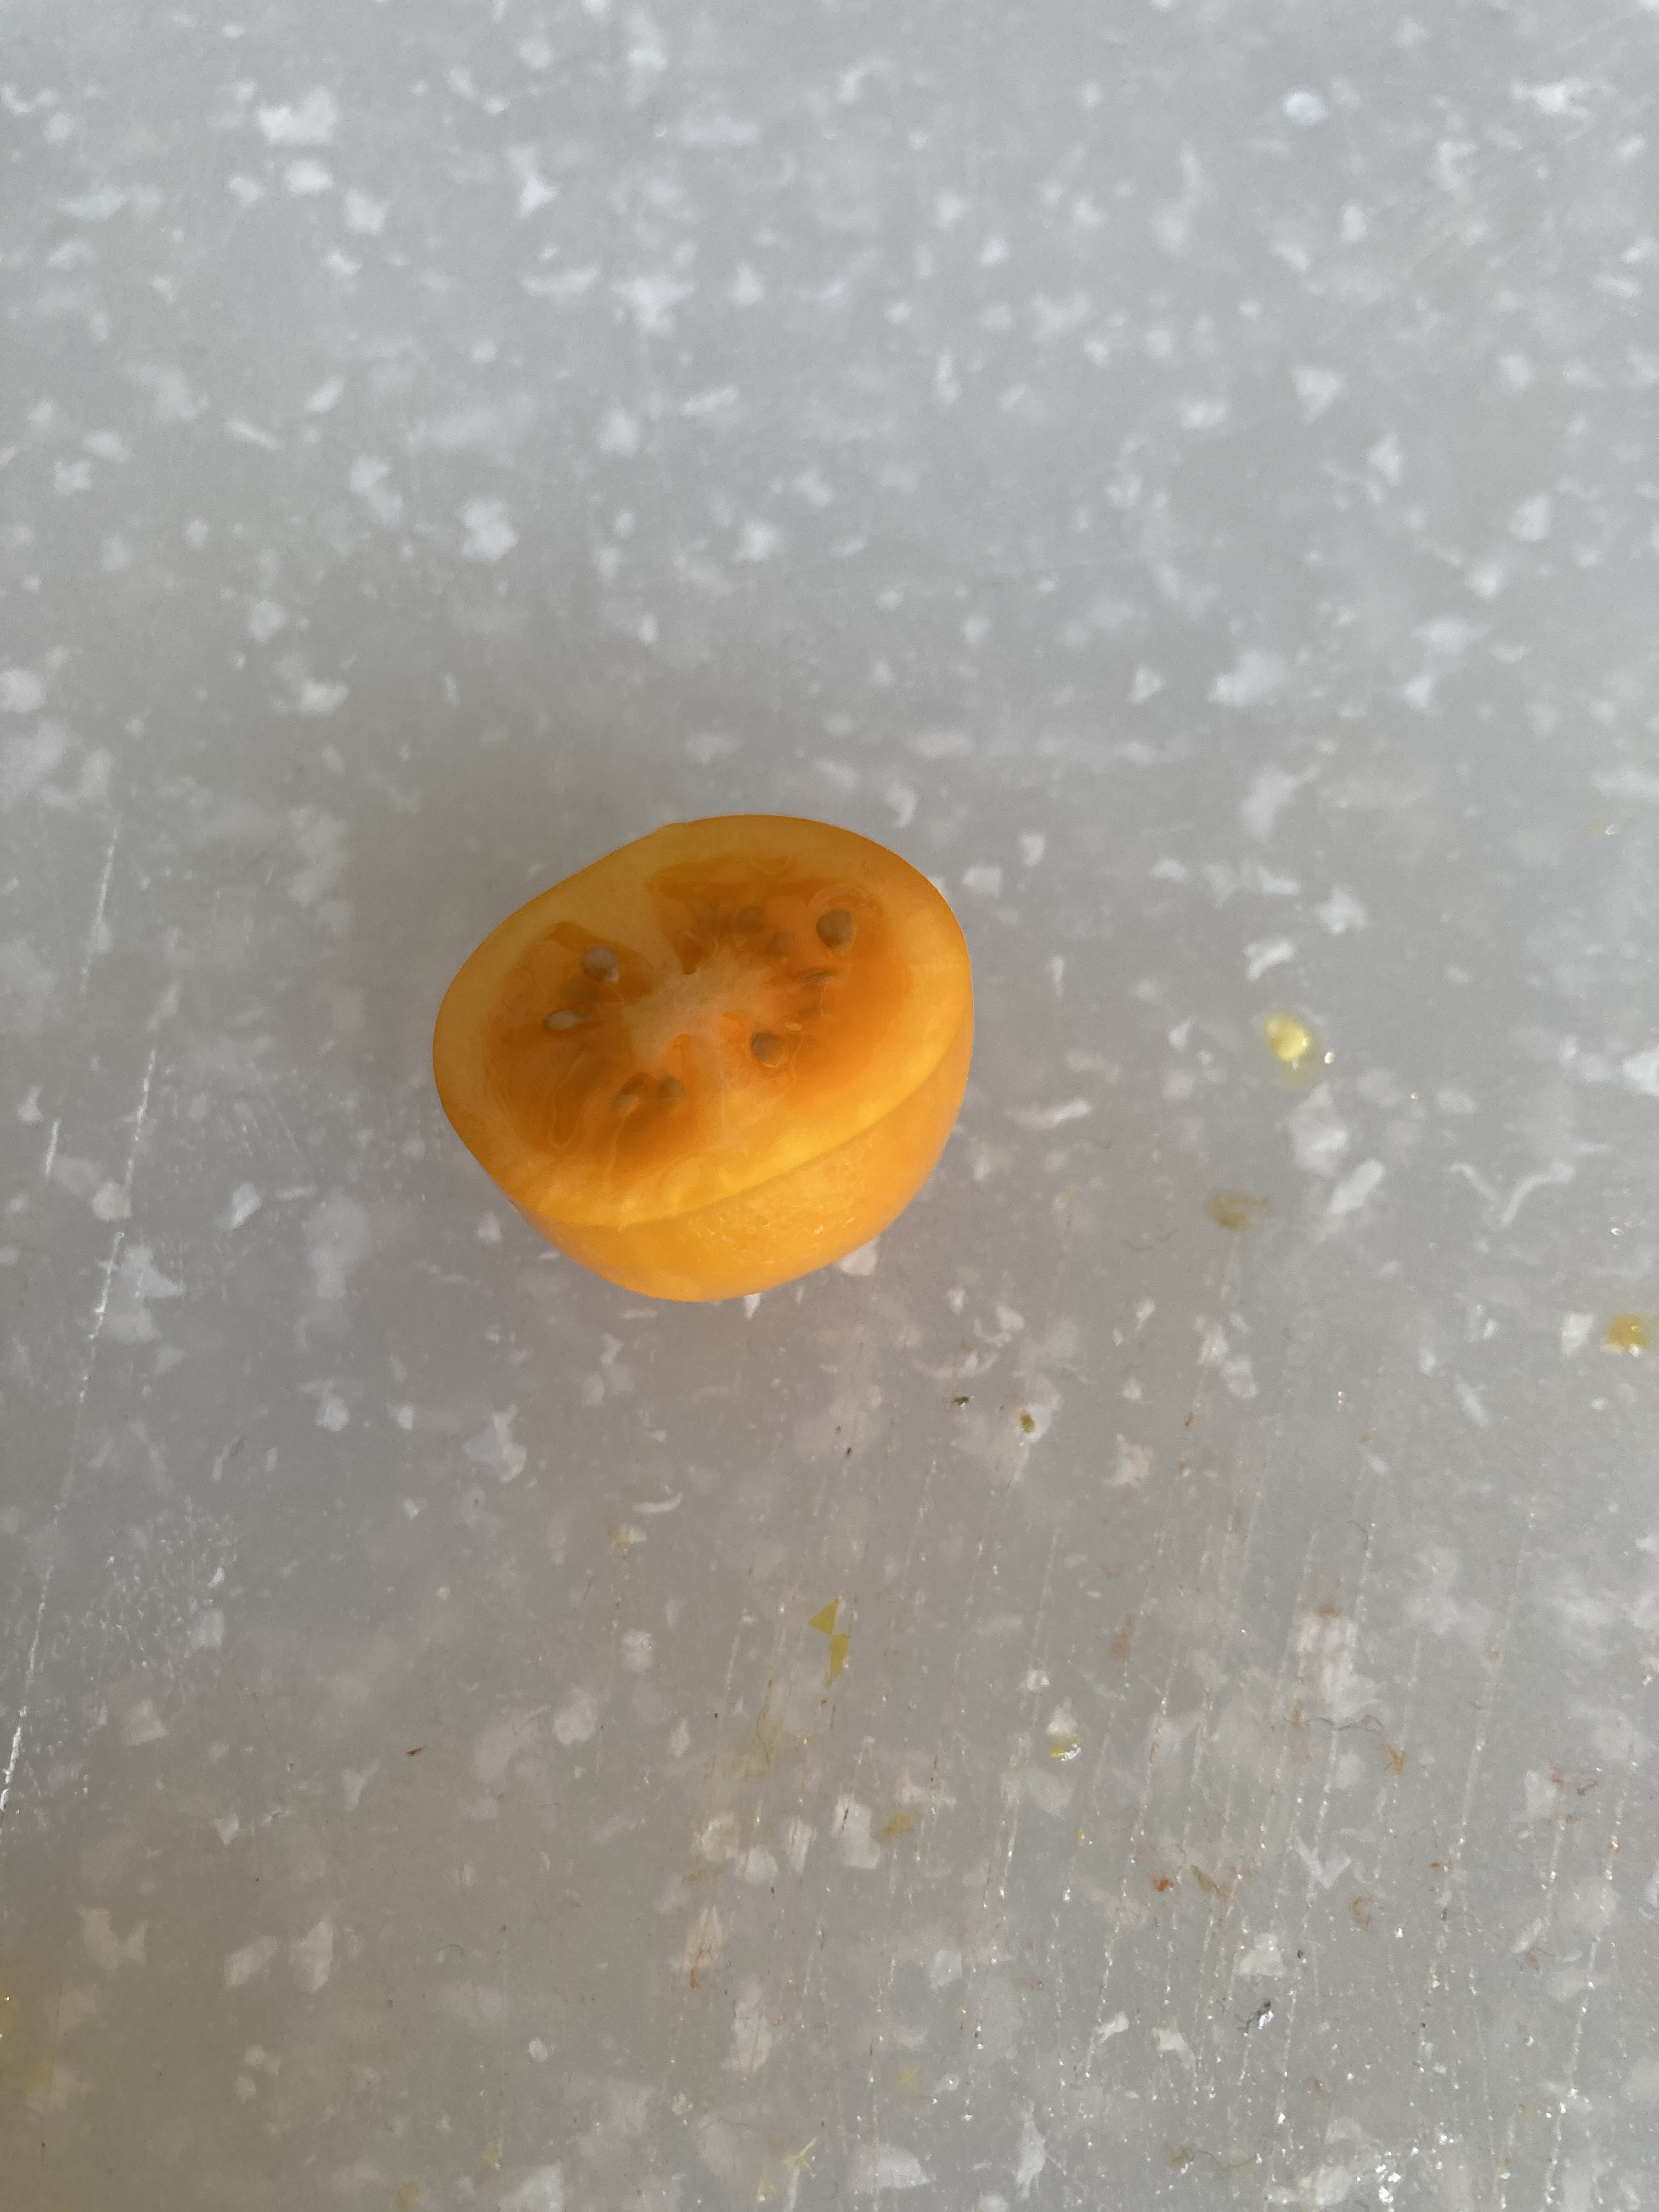healthy-tomato: (423, 806, 983, 1303)
